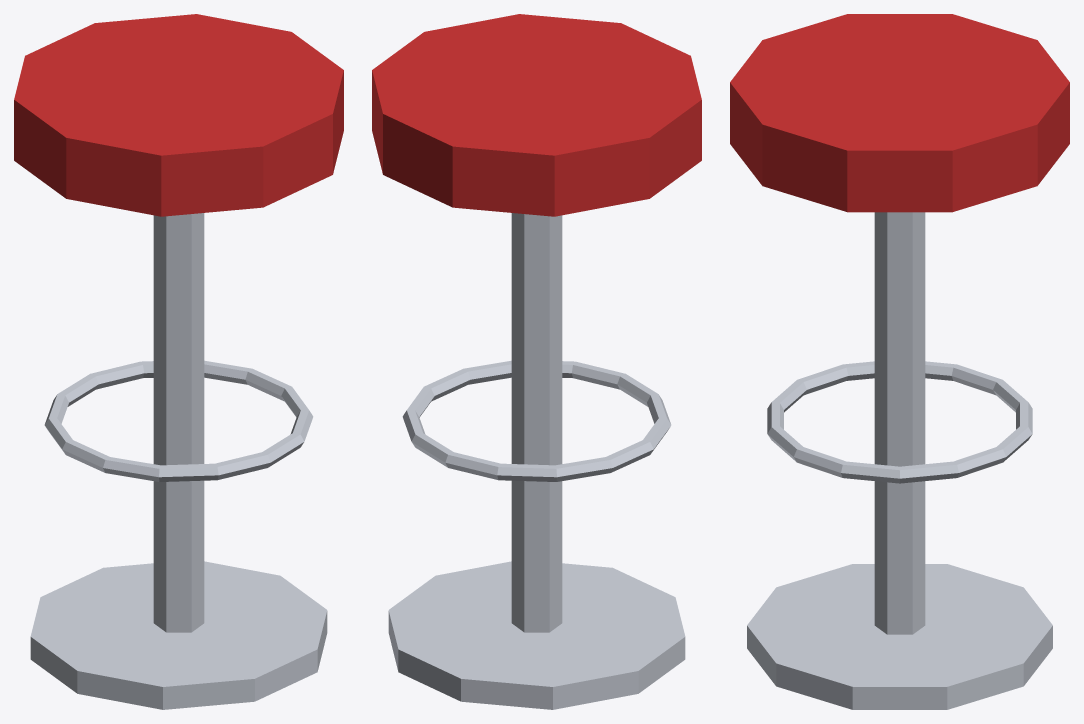
Rendered from bar_stool.glb.
3 renders of one model, left to right at view 1: azimuth 30°, elevation 25°; view 2: azimuth 150°, elevation 25°; view 3: azimuth 270°, elevation 25°, orthographic.
Parts seen in each view (by area): view 1: bar_stool; view 2: bar_stool; view 3: bar_stool.
Boxes of the visible parts, x1,y1,x2,y2 form: bar_stool: (14,14,343,709); bar_stool: (372,14,701,709); bar_stool: (730,14,1069,709).
Bounding box in the file's own units: 0.3804 × 0.735 × 0.4.
